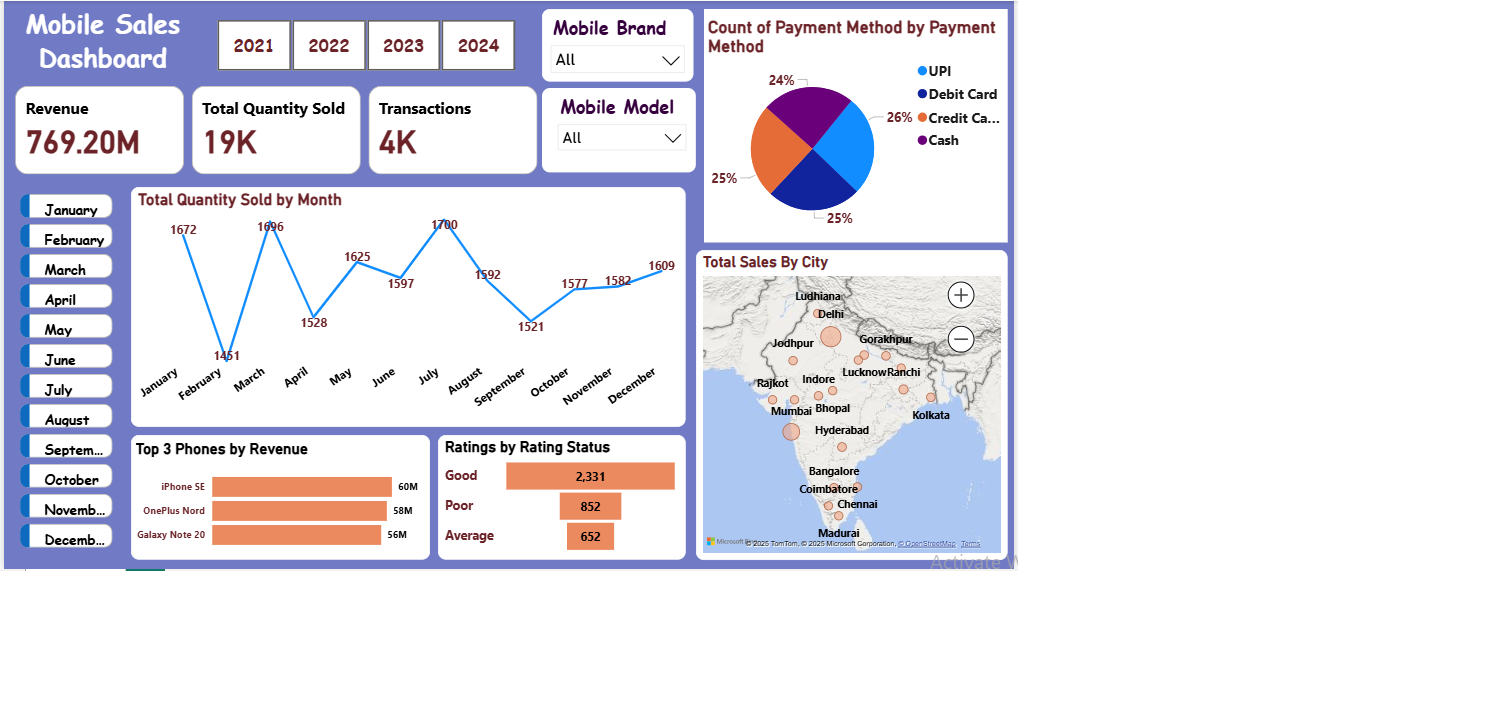

Layout of this report page (visuals, bound fields, positions):
{"tool":"powerbi","page":{"name":"Dashboard","canvas":[1280,720],"ordinal":0},"visuals":[{"type":"textbox","box":[9.7,0,230.7,109.8],"z":0},{"type":"advancedSlicerVisual","fields":{"Values":["Date_Calendar.Date.Variation.Date Hierarchy.Month"]},"box":[11,236.3,135,472.6],"z":1000},{"type":"cardVisual","fields":{"Data":["Sales_Data.Revenue","Sales_Data.Total_Quantity","Sales_Data.Transactions"]},"box":[9.7,102.9,672.7,122.3],"z":2000},{"type":"pieChart","fields":{"Category":["Sales_Data.Payment Method"],"Y":["CountNonNull(Sales_Data.Payment Method)"]},"box":[886.8,9.7,385,296.1],"z":3000},{"type":"slicer","fields":{"Values":["Sales_Data.Mobile Model"]},"box":[682.5,109.8,194.6,107],"z":4000},{"type":"slicer","fields":{"Values":["Sales_Data.Brand"]},"box":[682.5,9.7,191.8,91.7],"z":5000},{"type":"map","title":"Total Sales By City","fields":{"Category":["Sales_Data.City"],"Size":["CountNonNull(Sales_Data.City)"]},"box":[877.1,315.5,394.7,393.4],"z":6000},{"type":"lineChart","fields":{"Category":["Date_Calendar.Date.Variation.Date Hierarchy.Month"],"Y":["Sales_Data.Total Quantity Sold"]},"box":[161.2,236.3,703.3,304.4],"z":7000},{"type":"funnel","title":" Ratings by Rating Status","fields":{"Category":["Sales_Data.Rating Status"],"Y":["CountNonNull(Sales_Data.Customer Ratings)"]},"box":[550.4,550.4,314.1,158.5],"z":8000},{"type":"clusteredBarChart","title":"Top 3 Phones by Revenue","fields":{"Y":["Sales_Data.Revenue"],"Category":["Sales_Data.Mobile Model"]},"box":[161.2,550.4,379.5,158.5],"z":9000},{"type":"slicer","fields":{"Values":["Date_Calendar.Date.Variation.Date Hierarchy.Year"]},"box":[250.2,9.7,417,92],"z":10000}]}

Visuals, with their boxes on the page's 1280x720 design canvas (x1, y1, x2, y2). These are canvas units, not pixel positions in the 1492x721 screenshot, which may show the page scaled, cropped or inside an application window:
textbox: bbox(10, 0, 240, 110)
advancedSlicerVisual - Date_Calendar.Date.Variation.Date Hierarchy.Month: bbox(11, 236, 146, 709)
cardVisual - Sales_Data.Revenue x Sales_Data.Total_Quantity: bbox(10, 103, 682, 225)
pieChart - Sales_Data.Payment Method x CountNonNull(Sales_Data.Payment Method): bbox(887, 10, 1272, 306)
slicer - Sales_Data.Mobile Model: bbox(682, 110, 877, 217)
slicer - Sales_Data.Brand: bbox(682, 10, 874, 101)
"Total Sales By City" map: bbox(877, 316, 1272, 709)
lineChart - Date_Calendar.Date.Variation.Date Hierarchy.Month x Sales_Data.Total Quantity Sold: bbox(161, 236, 864, 541)
" Ratings by Rating Status" funnel: bbox(550, 550, 864, 709)
"Top 3 Phones by Revenue" clusteredBarChart: bbox(161, 550, 541, 709)
slicer - Date_Calendar.Date.Variation.Date Hierarchy.Year: bbox(250, 10, 667, 102)
